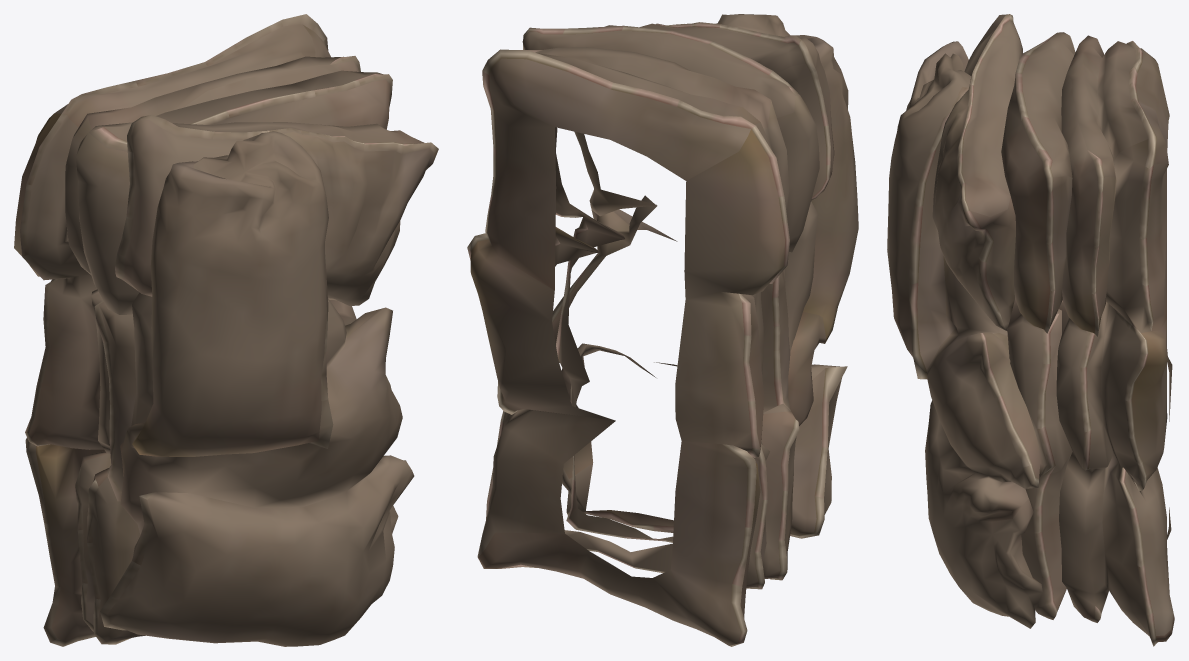
The model's file is GEN_PRO_Bag_Stack_04A_LOD0-transformed.glb.
3 renders of one model, left to right at view 1: azimuth 30°, elevation 25°; view 2: azimuth 150°, elevation 25°; view 3: azimuth 270°, elevation 25°, orthographic. The views are drawn at different scales.
Parts seen in each view (by area): view 1: GEN_PRO_Bag_Stack_04A_LOD0; view 2: GEN_PRO_Bag_Stack_04A_LOD0; view 3: GEN_PRO_Bag_Stack_04A_LOD0.
Part boxes in pixels (left/top/right/bottom): GEN_PRO_Bag_Stack_04A_LOD0: left=14, top=14, right=438, bottom=646; GEN_PRO_Bag_Stack_04A_LOD0: left=467, top=14, right=858, bottom=646; GEN_PRO_Bag_Stack_04A_LOD0: left=887, top=14, right=1174, bottom=646.
Size of the model in its own units: 0.0151 by 0.0253 by 0.0122.
1 material, 1 textured.
